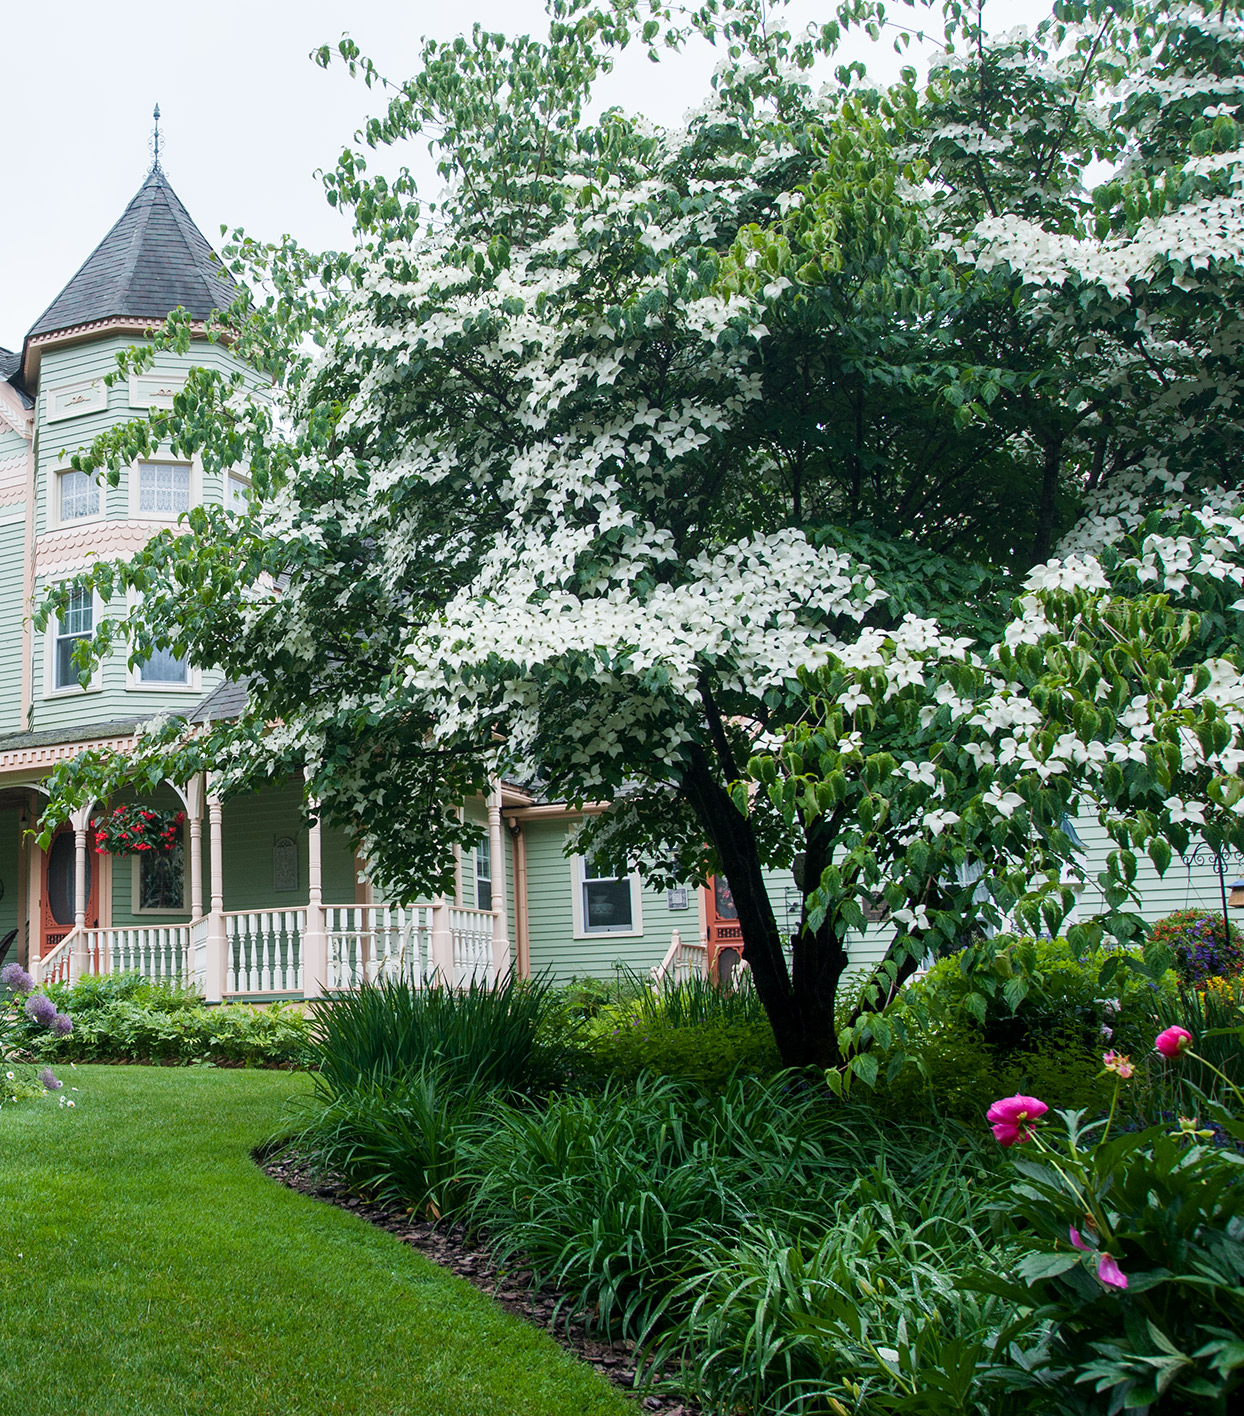tree: (111, 10, 1225, 1091)
